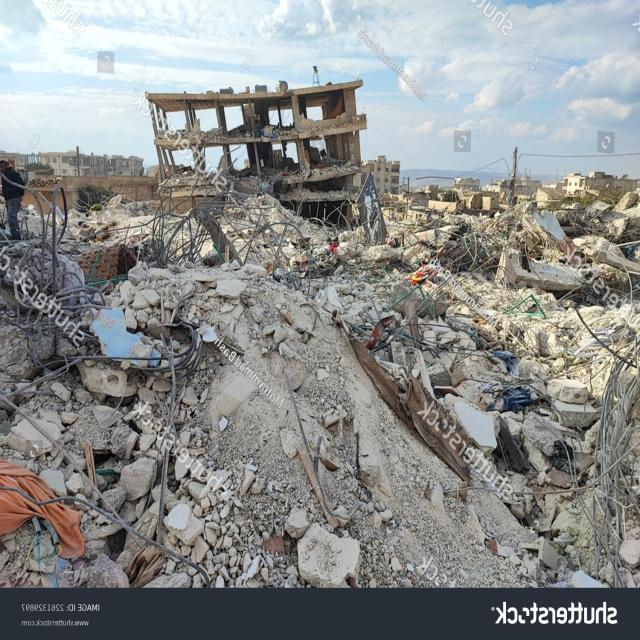Destroyed_building: (0, 0, 638, 594)
